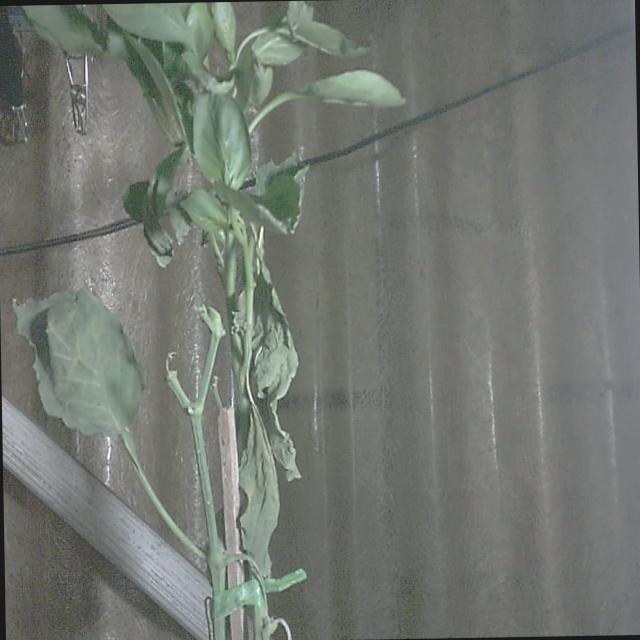Leaf: (10, 287, 147, 436), (236, 403, 280, 580), (192, 89, 254, 196)
